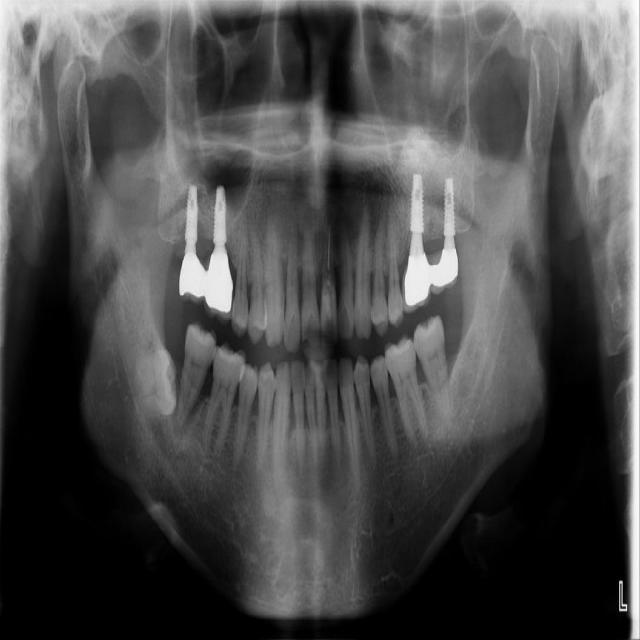52: (393, 246, 467, 313), (178, 251, 235, 328)
73: (322, 221, 335, 293), (608, 568, 614, 594)
Blue Sky Bio Implant: (411, 315, 452, 417)
Implant: (175, 319, 220, 430)
Keystone Dental Implant: (133, 348, 178, 416)
